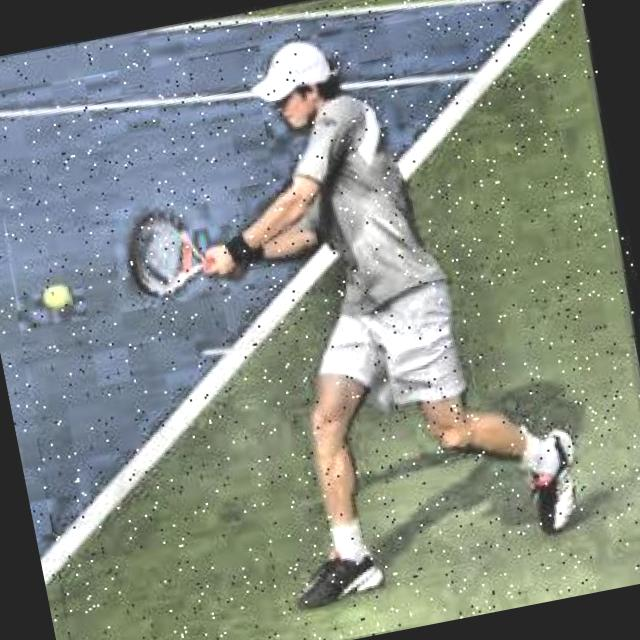tennis-ball: (41, 285, 77, 322)
